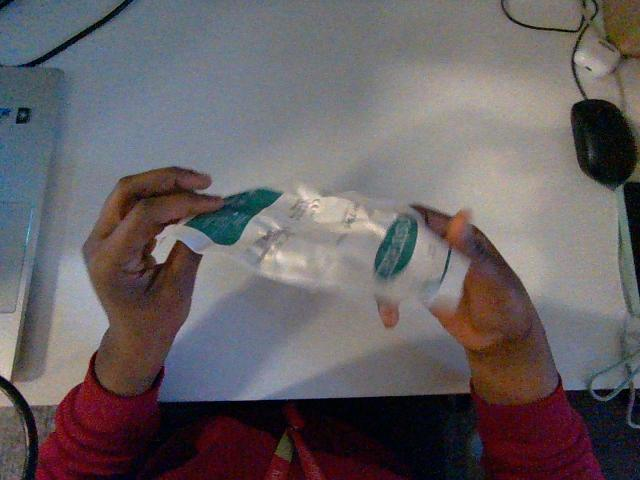gallipot: (166, 186, 468, 307)
